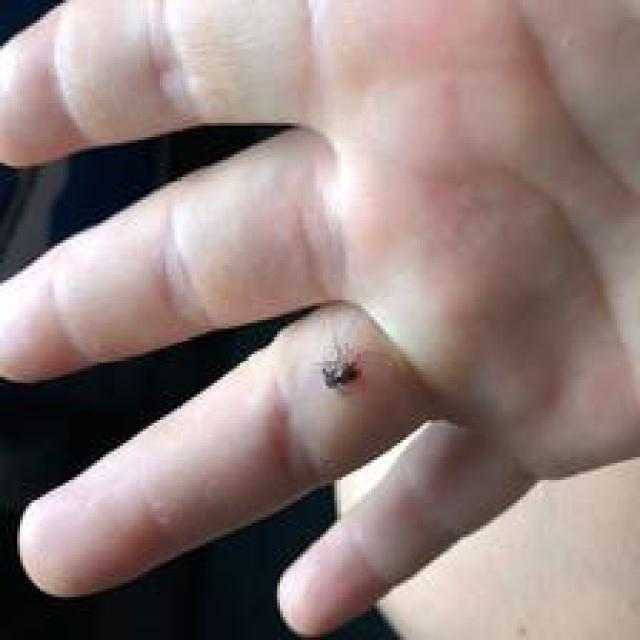Aedes albopictus: (318, 340, 362, 391)
